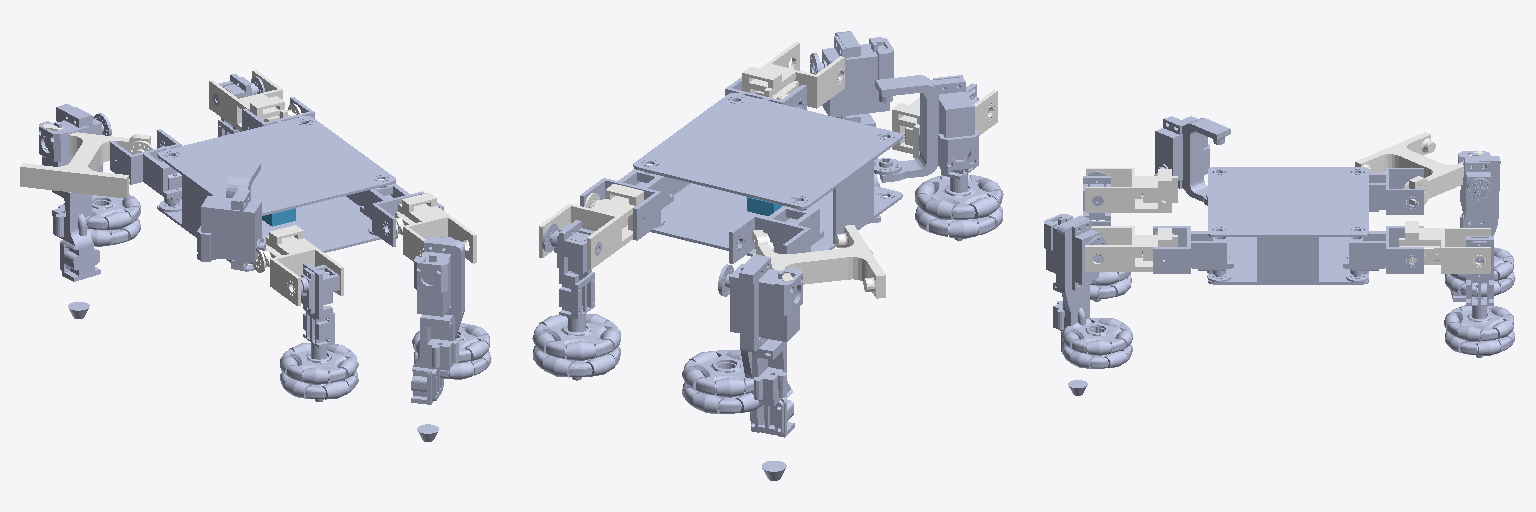
--- What the picture shows (computed from the rendered views, not written in the file) ---
The picture shows the robot from 3 angles, left to right: view 1: azimuth 30°, elevation 25°; view 2: azimuth 150°, elevation 25°; view 3: azimuth 270°, elevation 25°; orthographic projection.
Model peter_robot with 18 links and 17 joints (12 revolute, 4 continuous, 1 fixed), rooted at base_link, posed every joint at zero.
Links seen in each view (by area): view 1: base_link, TibiaRU_link, TibiaLD_link, CoxisRD_link, FemurLD_link, RuedaRD_link, FemurRD_link, FemurRU_link, CoxisLD_link, TibiaRD_link, FemurLU_link, RuedaLD_link (+4 smaller); view 2: base_link, TibiaLD_link, CoxisRD_link, TibiaRU_link, RuedaLU_link, RuedaRD_link, FemurLD_link, FemurLU_link, RuedaLD_link, TibiaLU_link, FemurRU_link, CoxisLD_link (+4 smaller); view 3: base_link, TibiaRU_link, CoxisRD_link, FemurRD_link, FemurLD_link, FemurLU_link, CoxisRU_link, RuedaRU_link, FemurRU_link, CoxisLU_link, TibiaLD_link, RuedaLU_link (+5 smaller).
Link boxes in pixels (x1=…): base_link: x1=157, y1=116, x2=395, y2=271; TibiaRU_link: x1=411, y1=236, x2=464, y2=441; TibiaLD_link: x1=39, y1=104, x2=111, y2=318; CoxisRD_link: x1=197, y1=160, x2=265, y2=270; FemurLD_link: x1=20, y1=124, x2=153, y2=198; RuedaRD_link: x1=280, y1=343, x2=358, y2=399; FemurRD_link: x1=252, y1=225, x2=343, y2=305; FemurRU_link: x1=388, y1=193, x2=476, y2=263; CoxisLD_link: x1=110, y1=129, x2=181, y2=211; TibiaRD_link: x1=293, y1=263, x2=339, y2=401; FemurLU_link: x1=209, y1=70, x2=301, y2=131; RuedaLD_link: x1=63, y1=194, x2=140, y2=246; base_link: x1=633, y1=93, x2=902, y2=256; TibiaLD_link: x1=718, y1=255, x2=802, y2=480; CoxisRD_link: x1=874, y1=75, x2=978, y2=182; TibiaRU_link: x1=810, y1=31, x2=893, y2=253; RuedaLU_link: x1=532, y1=314, x2=620, y2=377; RuedaRD_link: x1=915, y1=174, x2=1003, y2=238; FemurLD_link: x1=752, y1=225, x2=885, y2=313; FemurLU_link: x1=539, y1=184, x2=643, y2=269; RuedaLD_link: x1=682, y1=350, x2=761, y2=413; TibiaLU_link: x1=542, y1=220, x2=601, y2=380; FemurRU_link: x1=742, y1=42, x2=846, y2=108; CoxisLD_link: x1=729, y1=206, x2=823, y2=263; base_link: x1=1208, y1=167, x2=1368, y2=284; TibiaRU_link: x1=1044, y1=214, x2=1106, y2=395; CoxisRD_link: x1=1155, y1=116, x2=1230, y2=205; FemurRD_link: x1=1085, y1=168, x2=1177, y2=212; FemurLD_link: x1=1355, y1=132, x2=1484, y2=207; FemurLU_link: x1=1399, y1=221, x2=1490, y2=273; CoxisRU_link: x1=1153, y1=226, x2=1233, y2=281; RuedaRU_link: x1=1062, y1=318, x2=1132, y2=368; FemurRU_link: x1=1085, y1=226, x2=1177, y2=271; CoxisLU_link: x1=1343, y1=226, x2=1423, y2=281; TibiaLD_link: x1=1450, y1=151, x2=1500, y2=301; RuedaLU_link: x1=1444, y1=305, x2=1514, y2=355.
Size in the robot's own frame: 0.239 by 0.3799 by 0.1953 metres.
Meshes: 17 distinct files referenced, 17 mesh visuals loaded (17 binary STL).

The robot description file, URDF, robot "peter_robot":
<?xml version="1.0" encoding="utf-8"?>
<!-- This URDF was automatically created by SolidWorks to URDF Exporter! Originally created by Stephen Brawner ([email redacted]) 
     Commit Version: 1.6.0-4-g7f85cfe  Build Version: 1.6.7995.38578
     For more information, please see http://wiki.ros.org/sw_urdf_exporter -->
<robot
  name="peter_robot">
  <link
    name="base_link">
    <inertial>
      <origin
        xyz="0.0057951163939445818 0.0094736464900437718 0.02"
        rpy="0 0 0" />
      <mass
        value="3.0" />
      <inertia
        ixx="0.000954916141298042"
        ixy="-0.000122009140351572"
        ixz="0.00049717087497589"
        iyy="0.000938276141298042"
        iyz="-0.000196141248736565"
        izz="0.000187141337876107" />
    </inertial>
    <visual>
      <origin
        xyz="0 0 0"
        rpy="0 0 0" />
      <geometry>
        <mesh
          filename="package://peter_robot/meshes/Cuerpo_link.STL" />
      </geometry>
      <material
        name="">
        <color
          rgba="0.792156862745098 0.819607843137255 0.933333333333333 1" />
      </material>
    </visual>
    <collision>
      <origin
        xyz="0 0 0"
        rpy="0 0 0" />
      <geometry>
        <mesh
          filename="package://peter_robot/meshes/Cuerpo_link.STL" />
      </geometry>
    </collision>
  </link>

  <link name="imu_link">
    <visual>
      <geometry>
        <box size="0.02 0.02 0.01"/>
      </geometry>
    </visual>
    <collision>
      <geometry>
        <box size="0.1 0.1 0.05"/>
      </geometry>
    </collision>
    <inertial>
      <mass value="1e-5" />
      <origin xyz="0 0 0" rpy="0 0 0"/>
      <inertia ixx="1e-6" ixy="0" ixz="0" iyy="1e-6" iyz="0" izz="1e-6" />
    </inertial>
  </link>

  <joint
    name="IMU_joint"
    type="fixed">
    <origin
      xyz="0.0 0.0 0.005"
      rpy="3.1416 0 -1.5708" />
    <parent
      link="base_link" />
    <child
      link="imu_link" />
    <axis
      xyz="0 0 -1" />
  </joint>

  <gazebo reference="imu_link">
    <gravity>true</gravity>
    <sensor name="imu_sensor" type="imu">
      <always_on>true</always_on>
      <update_rate>100</update_rate>
      <visualize>true</visualize>
      <topic>__default_topic__</topic>
      <plugin filename="libgazebo_ros_imu_sensor.so" name="imu_plugin">
        <topicName>imu</topicName>
        <bodyName>imu_link</bodyName>
        <updateRateHZ>10.0</updateRateHZ>
        <gaussianNoise>0.0</gaussianNoise>
        <xyzOffset>0 0 0</xyzOffset>
        <rpyOffset>0 0 0</rpyOffset>
        <frameName>imu_link</frameName>
      </plugin>
      <pose>0 0 0 0 0 0</pose>
    </sensor>
  </gazebo>

  <link
    name="CoxisRU_link">
    <inertial>
      <origin
        xyz="0.0145758033903628 -0.000148324192035865 -0.00157951128660489"
        rpy="0 0 0" />
      <mass
        value="0.0198300229745734" />
      <inertia
        ixx="0.00033203887322426106"
        ixy="0.0074374349937085608"
        ixz="0.0056481319330245408"
        iyy="0.0046818529679331306"
        iyz="-0.0059763363601787710"
        izz="0.0062779650870579606" />
    </inertial>
    <visual>
      <origin
        xyz="0 0 0"
        rpy="0 0 0" />
      <geometry>
        <mesh
          filename="package://peter_robot/meshes/CoxisRU_link.STL" />
      </geometry>
      <material
        name="">
        <color
          rgba="0.792156862745098 0.819607843137255 0.933333333333333 1" />
      </material>
    </visual>
    <collision>
      <origin
        xyz="0 0 0"
        rpy="0 0 0" />
      <geometry>
        <mesh
          filename="package://peter_robot/meshes/CoxisRU_link.STL" />
      </geometry>
    </collision>
  </link>
  <joint
    name="CoxisRU_joint"
    type="revolute">
    <origin
      xyz="0.0558 -0.0558 0.02"
      rpy="3.1416 0 -1.5708" />
    <parent
      link="base_link" />
    <child
      link="CoxisRU_link" />
    <axis
      xyz="0 0 -1" />
    <limit
      lower="0"
      upper="1.57"
      effort="300"
      velocity="3" />
  </joint>
  <link
    name="FemurRU_link">
    <inertial>
      <origin
        xyz="0.0158446271127422 0.000731589545819266 -0.00234896627561063"
        rpy="0 0 0" />
      <mass
        value="0.0267646481312129" />
      <inertia
        ixx="0.0027372725885784506"
        ixy="0.0031908239997210907"
        ixz="0.0085342307337404507"
        iyy="0.0073568709647354206"
        iyz="-0.0032602627250091908"
        izz="0.0075404497968736806" />
    </inertial>
    <visual>
      <origin
        xyz="0 0 0"
        rpy="0 0 0" />
      <geometry>
        <mesh
          filename="package://peter_robot/meshes/FemurRU_link.STL" />
      </geometry>
      <material
        name="">
        <color
          rgba="1 1 1 1" />
      </material>
    </visual>
    <collision>
      <origin
        xyz="0 0 0"
        rpy="0 0 0" />
      <geometry>
        <mesh
          filename="package://peter_robot/meshes/FemurRU_link.STL" />
      </geometry>
    </collision>
  </link>
  <joint
    name="FemurRU_joint"
    type="revolute">
    <origin
      xyz="0.04455 0 -0.0046"
      rpy="-1.5708 0 0" />
    <parent
      link="CoxisRU_link" />
    <child
      link="FemurRU_link" />
    <axis
      xyz="0 0 -1" />
    <limit
      lower="-0.785"
      upper="0.785"
      effort="300"
      velocity="3" />
  </joint>
  <link
    name="TibiaRU_link">
    <inertial>
      <origin
        xyz="0.0303344390438305 -0.0064645402920726606 -0.00266255588885558"
        rpy="0 0 0" />
      <mass
        value="0.0203567389256734" />
      <inertia
        ixx="0.001075309559184606"
        ixy="0.0040821313346320112"
        ixz="-0.0072023647371747208"
        iyy="0.0035902033061377306"
        iyz="0.0080605163458934112"
        izz="0.0037227584809434606" />
    </inertial>
    <visual>
      <origin
        xyz="0 0 0"
        rpy="0 0 0" />
      <geometry>
        <mesh
          filename="package://peter_robot/meshes/TibiaRU_link.STL" />
      </geometry>
      <material
        name="">
        <color
          rgba="0.792156862745098 0.819607843137255 0.933333333333333 1" />
      </material>
    </visual>
    <collision>
      <origin
        xyz="0 0 0"
        rpy="0 0 0" />
      <geometry>
        <mesh
          filename="package://peter_robot/meshes/TibiaRU_link.STL" />
      </geometry>
    </collision>
  </link>
  <joint
    name="TibiaRU_joint"
    type="revolute">
    <origin
      xyz="0.05395 0 0.0016"
      rpy="0 0 -1.5708" />
    <parent
      link="FemurRU_link" />
    <child
      link="TibiaRU_link" />
    <axis
      xyz="0 0 -1" />
    <limit
      lower="-1.57"
      upper="0.3925"
      effort="300"
      velocity="3" />
  </joint>


<!--   BUMPER SENSOR
  <link name="TibiaRU_Bump_link">
    <visual>
      <geometry>
        <box size="0.06 0.06 0.06"/> // Deje un tamaño exagerado para probar las colisiones de manera más fácil. Aún así no funcionó.
      </geometry>
    </visual>
    <collision>
      <geometry>
        <box size="0.06 0.06 0.06"/>
      </geometry>
    </collision>
    <inertial>
      <mass value="1e-5" />
      <origin xyz="0 0 -0.02" rpy="0 0 0"/>
      <inertia ixx="1e-6" ixy="0" ixz="0" iyy="1e-6" iyz="0" izz="1e-6" />
    </inertial>
  </link>

  <joint
    name="TibiaRU_Bump_joint"
    type="fixed">
    <origin
      xyz="0.0 0.0 -0.5" // Si se quiere volver a intentar cuadrar mejor eje z (valor actual -0.5)
      rpy="3.1416 0 -1.5708" />
    <parent
      link="TibiaRU_link" />
    <child
      link="TibiaRU_Bump_link" />
    <axis
      xyz="0 0 -1" />
  </joint>

  <gazebo reference="TibiaRU_Bump_link">
    <selfCollide>true</selfCollide>
    <sensor name= "TibiaRU_bumper" type="contact">
        <alwaysOn>true</alwaysOn>
        <updateRate>15.0</updateRate>
        <plugin name="gazebo_ros_bumper_controller" filename="libgazebo_ros_bumper.so">   
            <bumperTopicName>bumper_TibiaRU</bumperTopicName>
            <contact>
              <collision>TibiaRU_link_fixed_joint_lump__TibiaRU_Bump_link_collision_1</collision>
            </contact>
            <frameName>world</frameName>
        </plugin>
    </sensor>
  </gazebo> -->

  <link
    name="RuedaRU_link">
    <inertial>
      <origin
        xyz="-0.0022780147213019610 0.0025475066500746410 -0.0063190357210696208"
        rpy="0 0 0" />
      <mass
        value="0.0405034383813953" />
      <inertia
        ixx="0.005174137497296206"
        ixy="0.0068457155389386413"
        ixz="0.0021378186017250514"
        iyy="0.0051741383388720806"
        iyz="0.0066069139604846515"
        izz="0.0097299113209887706" />
    </inertial>
    <visual>
      <origin
        xyz="0 0 0"
        rpy="0 0 0" />
      <geometry>
        <mesh
          filename="package://peter_robot/meshes/RuedaRU_link.STL" />
      </geometry>
      <material
        name="">
        <color
          rgba="0.792156862745098 0.819607843137255 0.933333333333333 1" />
      </material>
    </visual>
    <collision>
      <origin
        xyz="0 0 0"
        rpy="0 0 0" />
      <geometry>
        <mesh
          filename="package://peter_robot/meshes/RuedaRU_link.STL" />
      </geometry>
    </collision>
  </link>
  <joint
    name="RuedaRU_joint"
    type="continuous">
    <origin
      xyz="0.07225 0 -0.0039"
      rpy="0 1.5708 0" />
    <parent
      link="TibiaRU_link" />
    <child
      link="RuedaRU_link" />
    <axis
      xyz="0 0 -1" />
    <limit
      effort="300"
      velocity="3" />
  </joint>
  <link
    name="CoxisLU_link">
    <inertial>
      <origin
        xyz="0.0145758033898372 -0.000148324188575952 -0.00157951128572802"
        rpy="0 0 0" />
      <mass
        value="0.0198300229757828" />
      <inertia
        ixx="0.0033203887324183906"
        ixy="0.0074374350512450708"
        ixz="0.0056481319356737508"
        iyy="0.0046818529679575306"
        iyz="-0.0059763413290627210"
        izz="0.0062779650870379706" />
    </inertial>
    <visual>
      <origin
        xyz="0 0 0"
        rpy="0 0 0" />
      <geometry>
        <mesh
          filename="package://peter_robot/meshes/CoxisLU_link.STL" />
      </geometry>
      <material
        name="">
        <color
          rgba="0.792156862745098 0.819607843137255 0.933333333333333 1" />
      </material>
    </visual>
    <collision>
      <origin
        xyz="0 0 0"
        rpy="0 0 0" />
      <geometry>
        <mesh
          filename="package://peter_robot/meshes/CoxisLU_link.STL" />
      </geometry>
    </collision>
  </link>
  <joint
    name="CoxisLU_joint"
    type="revolute">
    <origin
      xyz="0.0558 0.0558 0.02"
      rpy="3.1416 0 1.5708" />
    <parent
      link="base_link" />
    <child
      link="CoxisLU_link" />
    <axis
      xyz="0 0 -1" />
    <limit
      lower="-1.57"
      upper="0"
      effort="300"
      velocity="3" />
  </joint>
  <link
    name="FemurLU_link">
    <inertial>
      <origin
        xyz="0.0158446270939323 0.000731589541232057 -0.0023489662634897"
        rpy="0 0 0" />
      <mass
        value="0.0267646481619211" />
      <inertia
        ixx="0.0027372725904361806"
        ixy="0.0031908239941182507"
        ixz="0.0085342307466234407"
        iyy="0.0073568709674539306"
        iyz="-0.003260262652798508"
        izz="0.0075404497985481606" />
    </inertial>
    <visual>
      <origin
        xyz="0 0 0"
        rpy="0 0 0" />
      <geometry>
        <mesh
          filename="package://peter_robot/meshes/FemurLU_link.STL" />
      </geometry>
      <material
        name="">
        <color
          rgba="1 1 1 1" />
      </material>
    </visual>
    <collision>
      <origin
        xyz="0 0 0"
        rpy="0 0 0" />
      <geometry>
        <mesh
          filename="package://peter_robot/meshes/FemurLU_link.STL" />
      </geometry>
    </collision>
  </link>
  <joint
    name="FemurLU_joint"
    type="revolute">
    <origin
      xyz="0.04455 0 -0.0046"
      rpy="-1.5708 0 0" />
    <parent
      link="CoxisLU_link" />
    <child
      link="FemurLU_link" />
    <axis
      xyz="0 0 -1" />
    <limit
      lower="-0.785"
      upper="0.785"
      effort="300"
      velocity="3" />
  </joint>
  <link
    name="TibiaLU_link">
    <inertial>
      <origin
        xyz="0.0303344390398229 -0.0064645402714225106 0.000537444112589075"
        rpy="0 0 0" />
      <mass
        value="0.0203567389283255" />
      <inertia
        ixx="0.0010753095594363206"
        ixy="0.0040821340532090512"
        ixz="-0.0072023647216624708"
        iyy="0.0035902033064178606"
        iyz="0.0080605028999537812"
        izz="0.0037227584810593206" />
    </inertial>
    <visual>
      <origin
        xyz="0 0 0"
        rpy="0 0 0" />
      <geometry>
        <mesh
          filename="package://peter_robot/meshes/TibiaLU_link.STL" />
      </geometry>
      <material
        name="">
        <color
          rgba="0.792156862745098 0.819607843137255 0.933333333333333 1" />
      </material>
    </visual>
    <collision>
      <origin
        xyz="0 0 0"
        rpy="0 0 0" />
      <geometry>
        <mesh
          filename="package://peter_robot/meshes/TibiaLU_link.STL" />
      </geometry>
    </collision>
  </link>
  <joint
    name="TibiaLU_joint"
    type="revolute">
    <origin
      xyz="0.05395 0 -0.0016"
      rpy="0 0 -1.5708" />
    <parent
      link="FemurLU_link" />
    <child
      link="TibiaLU_link" />
    <axis
      xyz="0 0 -1" />
    <limit
      lower="-1.57"
      upper="0.3925"
      effort="300"
      velocity="3" />
  </joint>
  <link
    name="RuedaLU_link">
    <inertial>
      <origin
        xyz="0.002278017288692710 -0.0025475083154091710 -0.0063190355295561508"
        rpy="0 0 0" />
      <mass
        value="0.0405034383813952" />
      <inertia
        ixx="0.005174137497296206"
        ixy="0.0068457155759549713"
        ixz="-0.0021378184629713714"
        iyy="0.0051741383388720806"
        iyz="-0.0066069135756848315"
        izz="0.0097299113209887706" />
    </inertial>
    <visual>
      <origin
        xyz="0 0 0"
        rpy="0 0 0" />
      <geometry>
        <mesh
          filename="package://peter_robot/meshes/RuedaLU_link.STL" />
      </geometry>
      <material
        name="">
        <color
          rgba="0.792156862745098 0.819607843137255 0.933333333333333 1" />
      </material>
    </visual>
    <collision>
      <origin
        xyz="0 0 0"
        rpy="0 0 0" />
      <geometry>
        <mesh
          filename="package://peter_robot/meshes/RuedaLU_link.STL" />
      </geometry>
    </collision>
  </link>
  <joint
    name="RuedaLU_joint"
    type="continuous">
    <origin
      xyz="0.07225 0 -0.0007"
      rpy="0 -1.5708 0" />
    <parent
      link="TibiaLU_link" />
    <child
      link="RuedaLU_link" />
    <axis
      xyz="0 0 -1" />
  </joint>
  <link
    name="CoxisRD_link">
    <inertial>
      <origin
        xyz="0.0145758034147555 -0.000148324186287456 -0.00157951130233852"
        rpy="0 0 0" />
      <mass
        value="0.0198300229471255" />
      <inertia
        ixx="0.0033203887309334506"
        ixy="0.0074374350931830508"
        ixz="0.0056481317661782108"
        iyy="0.0046818529645321506"
        iyz="-0.0059763449243910710"
        izz="0.0062779650849971806" />
    </inertial>
    <visual>
      <origin
        xyz="0 0 0"
        rpy="0 0 0" />
      <geometry>
        <mesh
          filename="package://peter_robot/meshes/CoxisRD_link.STL" />
      </geometry>
      <material
        name="">
        <color
          rgba="0.792156862745098 0.819607843137255 0.933333333333333 1" />
      </material>
    </visual>
    <collision>
      <origin
        xyz="0 0 0"
        rpy="0 0 0" />
      <geometry>
        <mesh
          filename="package://peter_robot/meshes/CoxisRD_link.STL" />
      </geometry>
    </collision>
  </link>
  <joint
    name="CoxisRD_joint"
    type="revolute">
    <origin
      xyz="-0.0558 -0.0558 0.02"
      rpy="3.1416 0 -1.5708" />
    <parent
      link="base_link" />
    <child
      link="CoxisRD_link" />
    <axis
      xyz="0 0 -1" />
    <limit
      lower="-1.57"
      upper="0"
      effort="300"
      velocity="3" />
  </joint>
  <link
    name="FemurRD_link">
    <inertial>
      <origin
        xyz="0.0158446271061813 0.000731589545244282 -0.00234896627188297"
        rpy="0 0 0" />
      <mass
        value="0.0267646481407517" />
      <inertia
        ixx="0.0027372725890429706"
        ixy="0.0031908239989177907"
        ixz="0.0085342307390399407"
        iyy="0.0073568709658379206"
        iyz="-0.0032602627185682608"
        izz="0.0075404497975679406" />
    </inertial>
    <visual>
      <origin
        xyz="0 0 0"
        rpy="0 0 0" />
      <geometry>
        <mesh
          filename="package://peter_robot/meshes/FemurRD_link.STL" />
      </geometry>
      <material
        name="">
        <color
          rgba="1 1 1 1" />
      </material>
    </visual>
    <collision>
      <origin
        xyz="0 0 0"
        rpy="0 0 0" />
      <geometry>
        <mesh
          filename="package://peter_robot/meshes/FemurRD_link.STL" />
      </geometry>
    </collision>
  </link>
  <joint
    name="FemurRD_joint"
    type="revolute">
    <origin
      xyz="0.04455 0 -0.0046"
      rpy="-1.5708 0 0" />
    <parent
      link="CoxisRD_link" />
    <child
      link="FemurRD_link" />
    <axis
      xyz="0 0 -1" />
    <limit
      lower="-0.785"
      upper="0.785"
      effort="300"
      velocity="3" />
  </joint>
  <link
    name="TibiaRD_link">
    <inertial>
      <origin
        xyz="0.0303344391647721 -0.0064645363408999406 -0.0026625559205628"
        rpy="0 0 0" />
      <mass
        value="0.0203567388517281" />
      <inertia
        ixx="0.0010753095557645506"
        ixy="0.0040828428449131212"
        ixz="-0.0072023651659255508"
        iyy="0.0035902032972577406"
        iyz="0.008059946090131212"
        izz="0.0037227584753179706" />
    </inertial>
    <visual>
      <origin
        xyz="0 0 0"
        rpy="0 0 0" />
      <geometry>
        <mesh
          filename="package://peter_robot/meshes/TibiaRD_link.STL" />
      </geometry>
      <material
        name="">
        <color
          rgba="0.792156862745098 0.819607843137255 0.933333333333333 1" />
      </material>
    </visual>
    <collision>
      <origin
        xyz="0 0 0"
        rpy="0 0 0" />
      <geometry>
        <mesh
          filename="package://peter_robot/meshes/TibiaRD_link.STL" />
      </geometry>
    </collision>
  </link>
  <joint
    name="TibiaRD_joint"
    type="revolute">
    <origin
      xyz="0.05395 0 0.0016"
      rpy="0 0 -1.5708" />
    <parent
      link="FemurRD_link" />
    <child
      link="TibiaRD_link" />
    <axis
      xyz="0 0 -1" />
    <limit
      lower="-1.57"
      upper="0.3925"
      effort="300"
      velocity="3" />
  </joint>
  <link
    name="RuedaRD_link">
    <inertial>
      <origin
        xyz="-0.0022780147213019610 0.0025475072051861510 -0.0063190359493592308"
        rpy="0 0 0" />
      <mass
        value="0.0405034383813952" />
      <inertia
        ixx="0.005174137497296206"
        ixy="0.0068457155408163413"
        ixz="0.002137818453735414"
        iyy="0.0051741383388720806"
        iyz="0.0066069143859850515"
        izz="0.0097299113209887606" />
    </inertial>
    <visual>
      <origin
        xyz="0 0 0"
        rpy="0 0 0" />
      <geometry>
        <mesh
          filename="package://peter_robot/meshes/RuedaRD_link.STL" />
      </geometry>
      <material
        name="">
        <color
          rgba="0.792156862745098 0.819607843137255 0.933333333333333 1" />
      </material>
    </visual>
    <collision>
      <origin
        xyz="0 0 0"
        rpy="0 0 0" />
      <geometry>
        <mesh
          filename="package://peter_robot/meshes/RuedaRD_link.STL" />
      </geometry>
    </collision>
  </link>
  <joint
    name="RuedaRD_joint"
    type="continuous">
    <origin
      xyz="0.07225 0 -0.0039"
      rpy="0 1.5708 0" />
    <parent
      link="TibiaRD_link" />
    <child
      link="RuedaRD_link" />
    <axis
      xyz="0 0 -1" />
  </joint>
  <link
    name="CoxisLD_link">
    <inertial>
      <origin
        xyz="0.0145758034287634 -0.000148324186440819 -0.00157951131109748"
        rpy="0 0 0" />
      <mass
        value="0.0198300229322089" />
      <inertia
        ixx="0.003320388730206"
        ixy="0.0074374350824844708"
        ixz="0.0056481316618717208"
        iyy="0.0046818529625022906"
        iyz="-0.0059763447978343810"
        izz="0.0062779650837921106" />
    </inertial>
    <visual>
      <origin
        xyz="0 0 0"
        rpy="0 0 0" />
      <geometry>
        <mesh
          filename="package://peter_robot/meshes/CoxisLD_link.STL" />
      </geometry>
      <material
        name="">
        <color
          rgba="0.792156862745098 0.819607843137255 0.933333333333333 1" />
      </material>
    </visual>
    <collision>
      <origin
        xyz="0 0 0"
        rpy="0 0 0" />
      <geometry>
        <mesh
          filename="package://peter_robot/meshes/CoxisLD_link.STL" />
      </geometry>
    </collision>
  </link>
  <joint
    name="CoxisLD_joint"
    type="revolute">
    <origin
      xyz="-0.0557999999999999 0.0558000000000001 0.02"
      rpy="3.14159265358979 0 1.5707963267949" />
    <parent
      link="base_link" />
    <child
      link="CoxisLD_link" />
    <axis
      xyz="0 0 -1" />
    <limit
      lower="0"
      upper="1.57"
      effort="300"
      velocity="3" />
  </joint>
  <link
    name="FemurLD_link">
    <inertial>
      <origin
        xyz="0.0158446271347616 0.000731589548341318 -0.00234896628844949"
        rpy="0 0 0" />
      <mass
        value="0.0267646480993488" />
      <inertia
        ixx="0.0027372725869173606"
        ixy="0.0031908240034705407"
        ixz="0.0085342307149318207"
        iyy="0.0073568709609241106"
        iyz="-0.0032602627566903708"
        izz="0.0075404497946103606" />
    </inertial>
    <visual>
      <origin
        xyz="0 0 0"
        rpy="0 0 0" />
      <geometry>
        <mesh
          filename="package://peter_robot/meshes/FemurLD_link.STL" />
      </geometry>
      <material
        name="">
        <color
          rgba="1 1 1 1" />
      </material>
    </visual>
    <collision>
      <origin
        xyz="0 0 0"
        rpy="0 0 0" />
      <geometry>
        <mesh
          filename="package://peter_robot/meshes/FemurLD_link.STL" />
      </geometry>
    </collision>
  </link>
  <joint
    name="FemurLD_joint"
    type="revolute">
    <origin
      xyz="0.0445499999999999 0 -0.00459999999999999"
      rpy="-1.5707963267949 0 0" />
    <parent
      link="CoxisLD_link" />
    <child
      link="FemurLD_link" />
    <axis
      xyz="0 0 -1" />
    <limit
      lower="-0.725"
      upper="0.725"
      effort="300"
      velocity="3" />
  </joint>
  <link
    name="TibiaLD_link">
    <inertial>
      <origin
        xyz="0.0303344390126996 -0.0064645429165843806 0.000537444120214961"
        rpy="0 0 0" />
      <mass
        value="0.0203567389458481" />
      <inertia
        ixx="0.0010753095603793906"
        ixy="0.0040815514175290412"
        ixz="-0.0072023646401669108"
        iyy="0.0035902033081829706"
        iyz="0.0080608997546156212"
        izz="0.0037227584821212906" />
    </inertial>
    <visual>
      <origin
        xyz="0 0 0"
        rpy="0 0 0" />
      <geometry>
        <mesh
          filename="package://peter_robot/meshes/TibiaLD_link.STL" />
      </geometry>
      <material
        name="">
        <color
          rgba="0.792156862745098 0.819607843137255 0.933333333333333 1" />
      </material>
    </visual>
    <collision>
      <origin
        xyz="0 0 0"
        rpy="0 0 0" />
      <geometry>
        <mesh
          filename="package://peter_robot/meshes/TibiaLD_link.STL" />
      </geometry>
    </collision>
  </link>
  <joint
    name="TibiaLD_joint"
    type="revolute">
    <origin
      xyz="0.0539500000000001 0 -0.00159999999999993"
      rpy="0 0 -1.5707963267949" />
    <parent
      link="FemurLD_link" />
    <child
      link="TibiaLD_link" />
    <axis
      xyz="0 0 -1" />
    <limit
      lower="-1.57"
      upper="0.3925"
      effort="300"
      velocity="3" />
  </joint>
  <link
    name="RuedaLD_link">
    <inertial>
      <origin
        xyz="0.002278017288692710 -0.0025475085929649310 -0.0063190356197617708"
        rpy="0 0 0" />
      <mass
        value="0.0405034383813952" />
      <inertia
        ixx="0.0051741374972961906"
        ixy="0.0068457155467389613"
        ixz="-0.0021378185041981414"
        iyy="0.0051741383388720806"
        iyz="-0.0066069141633005815"
        izz="0.0097299113209887706" />
    </inertial>
    <visual>
      <origin
        xyz="0 0 0"
        rpy="0 0 0" />
      <geometry>
        <mesh
          filename="package://peter_robot/meshes/RuedaLD_link.STL" />
      </geometry>
      <material
        name="">
        <color
          rgba="0.792156862745098 0.819607843137255 0.933333333333333 1" />
      </material>
    </visual>
    <collision>
      <origin
        xyz="0 0 0"
        rpy="0 0 0" />
      <geometry>
        <mesh
          filename="package://peter_robot/meshes/RuedaLD_link.STL" />
      </geometry>
    </collision>
  </link>
  <joint
    name="RuedaLD_joint"
    type="continuous">
    <origin
      xyz="0.0722499993139122 0 -0.00070000009500111"
      rpy="0 -1.5707963267949 0" />
    <parent
      link="TibiaLD_link" />
    <child
      link="RuedaLD_link" />
    <axis
      xyz="0 0 -1" />
  </joint>
</robot>
